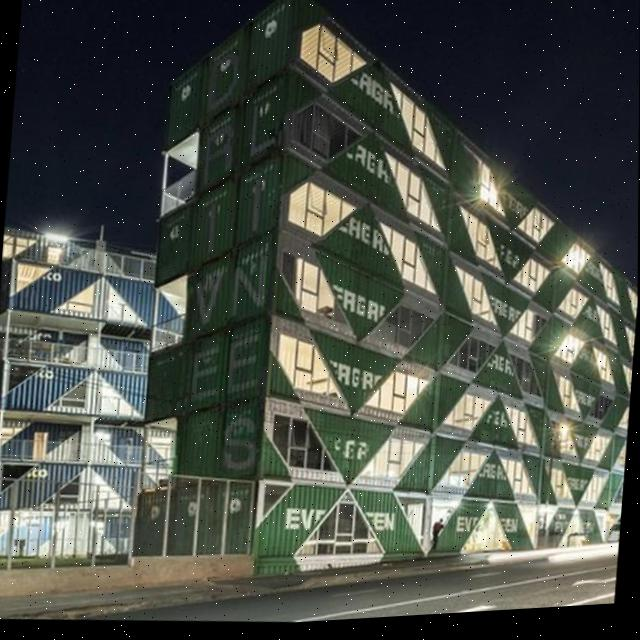building: (133, 0, 640, 583), (0, 210, 169, 556)
